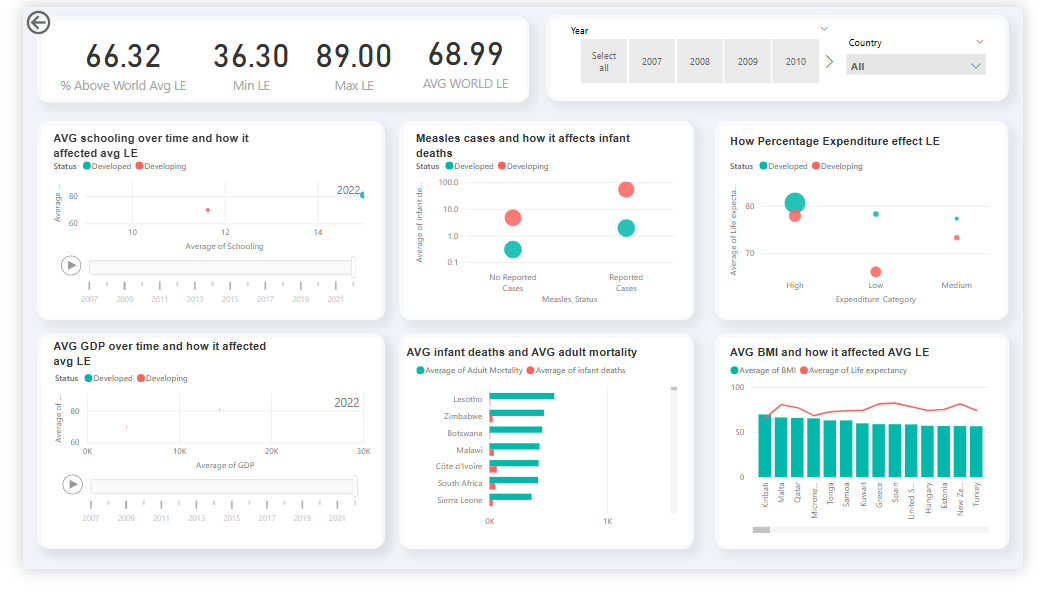

The dashboard page shown, as its layout file describes it:
{"tool":"powerbi","page":{"name":"Page 2","canvas":[1280,720],"ordinal":1},"visuals":[{"type":"shape","box":[18.3,418.3,445,275],"z":0},{"type":"shape","box":[18.3,11.7,630,110],"z":1000},{"type":"card","fields":{"Values":["world_life_expectancy world_life_expectancy.Percentage Above World Avg LE"]},"box":[33.3,16.7,188.3,103.3],"z":2000},{"type":"card","fields":{"Values":["Min(world_life_expectancy world_life_expectancy.Life expectancy)"]},"box":[221.7,11.7,140,111.7],"z":3000},{"type":"card","fields":{"Values":["Max(world_life_expectancy world_life_expectancy.Life expectancy)"]},"box":[356.7,11.7,135,111.7],"z":4000},{"type":"card","fields":{"Values":["Avg(world_life_expectancy world_life_expectancy.Life expectancy)"]},"box":[491.7,10,148.3,111.7],"z":5000},{"type":"textbox","box":[33.3,418.3,300,55],"z":6000},{"type":"shape","box":[18.3,146.7,445,255],"z":7000},{"type":"actionButton","box":[0,0,100,40],"z":8000},{"type":"shape","box":[481.7,146.7,376.7,255],"z":9000},{"type":"scatterChart","fields":{"X":["world_life_expectancy world_life_expectancy. Measles_Status"],"Y":["Avg(world_life_expectancy world_life_expectancy.infant deaths)"],"Size":["Avg(world_life_expectancy world_life_expectancy.Life expectancy)"],"Series":["world_life_expectancy world_life_expectancy.Status"]},"box":[498.3,183.6,344,202],"z":10000},{"type":"shape","box":[886.7,146.7,375,255],"z":11000},{"type":"scatterChart","fields":{"Y":["Avg(world_life_expectancy world_life_expectancy.Life expectancy)"],"X":["world_life_expectancy world_life_expectancy.Expenditure_Category"],"Series":["world_life_expectancy world_life_expectancy.Status"],"Size":["Sum(world_life_expectancy world_life_expectancy.percentage expenditure)"]},"box":[900,184,342,202],"z":12000},{"type":"shape","box":[886,418,376,276],"z":13000},{"type":"lineClusteredColumnComboChart","fields":{"Category":["world_life_expectancy world_life_expectancy.Country"],"Y":["Avg(world_life_expectancy world_life_expectancy.BMI)"],"Y2":["Avg(world_life_expectancy world_life_expectancy.Life expectancy)"]},"box":[900,446,342,232],"z":14000},{"type":"shape","box":[482,418,376,276],"z":16000},{"type":"clusteredBarChart","fields":{"Category":["world_life_expectancy world_life_expectancy.Country"],"Y":["Avg(world_life_expectancy world_life_expectancy.Adult Mortality)","Avg(world_life_expectancy world_life_expectancy.infant deaths)"]},"box":[498,446,344,231],"z":17000},{"type":"shape","box":[670,10,591.7,110],"z":18000},{"type":"slicer","fields":{"Values":["world_life_expectancy world_life_expectancy.Year"]},"box":[688.3,16.7,355,88.3],"z":19000},{"type":"slicer","fields":{"Values":["world_life_expectancy world_life_expectancy.Country"]},"box":[1044,32,198,72],"z":20000},{"type":"scatterChart","fields":{"X":["Avg(world_life_expectancy world_life_expectancy.GDP)"],"Y":["Avg(world_life_expectancy world_life_expectancy.Life expectancy)"],"Series":["world_life_expectancy world_life_expectancy.Status"],"Size":["Avg(world_life_expectancy world_life_expectancy.percentage expenditure)"],"Play":["world_life_expectancy world_life_expectancy.Year"]},"box":[36.7,456.7,413.3,221.7],"z":21000},{"type":"scatterChart","fields":{"X":["Avg(world_life_expectancy world_life_expectancy.Schooling)"],"Y":["Avg(world_life_expectancy world_life_expectancy.Life expectancy)"],"Series":["world_life_expectancy world_life_expectancy.Status"],"Play":["world_life_expectancy world_life_expectancy.Year"],"Size":["Avg(world_life_expectancy world_life_expectancy.GDP)"]},"box":[33.3,183.3,413.3,213.3],"z":22000},{"type":"textbox","box":[33.3,151.7,300,50],"z":23000},{"type":"textbox","box":[900,426.7,300,30],"z":24000},{"type":"textbox","box":[498.3,151.7,300,55],"z":25000},{"type":"textbox","box":[900,156.7,300,46.7],"z":26000},{"type":"textbox","box":[486.7,426.7,355,56.7],"z":27000}]}

Visuals, with their boxes in screenshot pixels (x1, y1, x2, y2), scaled from the page's 1280x720 canvas onto the 1041x591 screenshot:
shape: (x1=15, y1=343, x2=377, y2=569)
shape: (x1=15, y1=10, x2=527, y2=100)
card - world_life_expectancy world_life_expectancy.Percentage Above World Avg LE: (x1=27, y1=14, x2=180, y2=98)
card - Min(world_life_expectancy world_life_expectancy.Life expectancy): (x1=180, y1=10, x2=294, y2=101)
card - Max(world_life_expectancy world_life_expectancy.Life expectancy): (x1=290, y1=10, x2=400, y2=101)
card - Avg(world_life_expectancy world_life_expectancy.Life expectancy): (x1=400, y1=8, x2=520, y2=100)
textbox: (x1=27, y1=343, x2=271, y2=389)
shape: (x1=15, y1=120, x2=377, y2=330)
actionButton: (x1=0, y1=0, x2=81, y2=33)
shape: (x1=392, y1=120, x2=698, y2=330)
scatterChart - world_life_expectancy world_life_expectancy. Measles_Status x Avg(world_life_expectancy world_life_expectancy.infant deaths): (x1=405, y1=151, x2=685, y2=317)
shape: (x1=721, y1=120, x2=1026, y2=330)
scatterChart - Avg(world_life_expectancy world_life_expectancy.Life expectancy) x world_life_expectancy world_life_expectancy.Expenditure_Category: (x1=732, y1=151, x2=1010, y2=317)
shape: (x1=721, y1=343, x2=1026, y2=570)
lineClusteredColumnComboChart - world_life_expectancy world_life_expectancy.Country x Avg(world_life_expectancy world_life_expectancy.BMI): (x1=732, y1=366, x2=1010, y2=557)
shape: (x1=392, y1=343, x2=698, y2=570)
clusteredBarChart - world_life_expectancy world_life_expectancy.Country x Avg(world_life_expectancy world_life_expectancy.Adult Mortality): (x1=405, y1=366, x2=685, y2=556)
shape: (x1=545, y1=8, x2=1026, y2=98)
slicer - world_life_expectancy world_life_expectancy.Year: (x1=560, y1=14, x2=848, y2=86)
slicer - world_life_expectancy world_life_expectancy.Country: (x1=849, y1=26, x2=1010, y2=85)
scatterChart - Avg(world_life_expectancy world_life_expectancy.GDP) x Avg(world_life_expectancy world_life_expectancy.Life expectancy): (x1=30, y1=375, x2=366, y2=557)
scatterChart - Avg(world_life_expectancy world_life_expectancy.Schooling) x Avg(world_life_expectancy world_life_expectancy.Life expectancy): (x1=27, y1=150, x2=363, y2=326)
textbox: (x1=27, y1=125, x2=271, y2=166)
textbox: (x1=732, y1=350, x2=976, y2=375)
textbox: (x1=405, y1=125, x2=649, y2=170)
textbox: (x1=732, y1=129, x2=976, y2=167)
textbox: (x1=396, y1=350, x2=685, y2=397)
